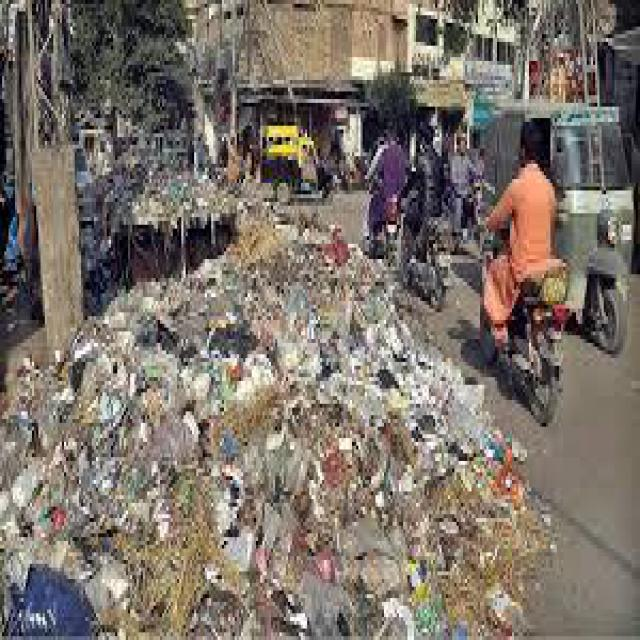garbage: (6, 290, 478, 636), (88, 152, 371, 347)
